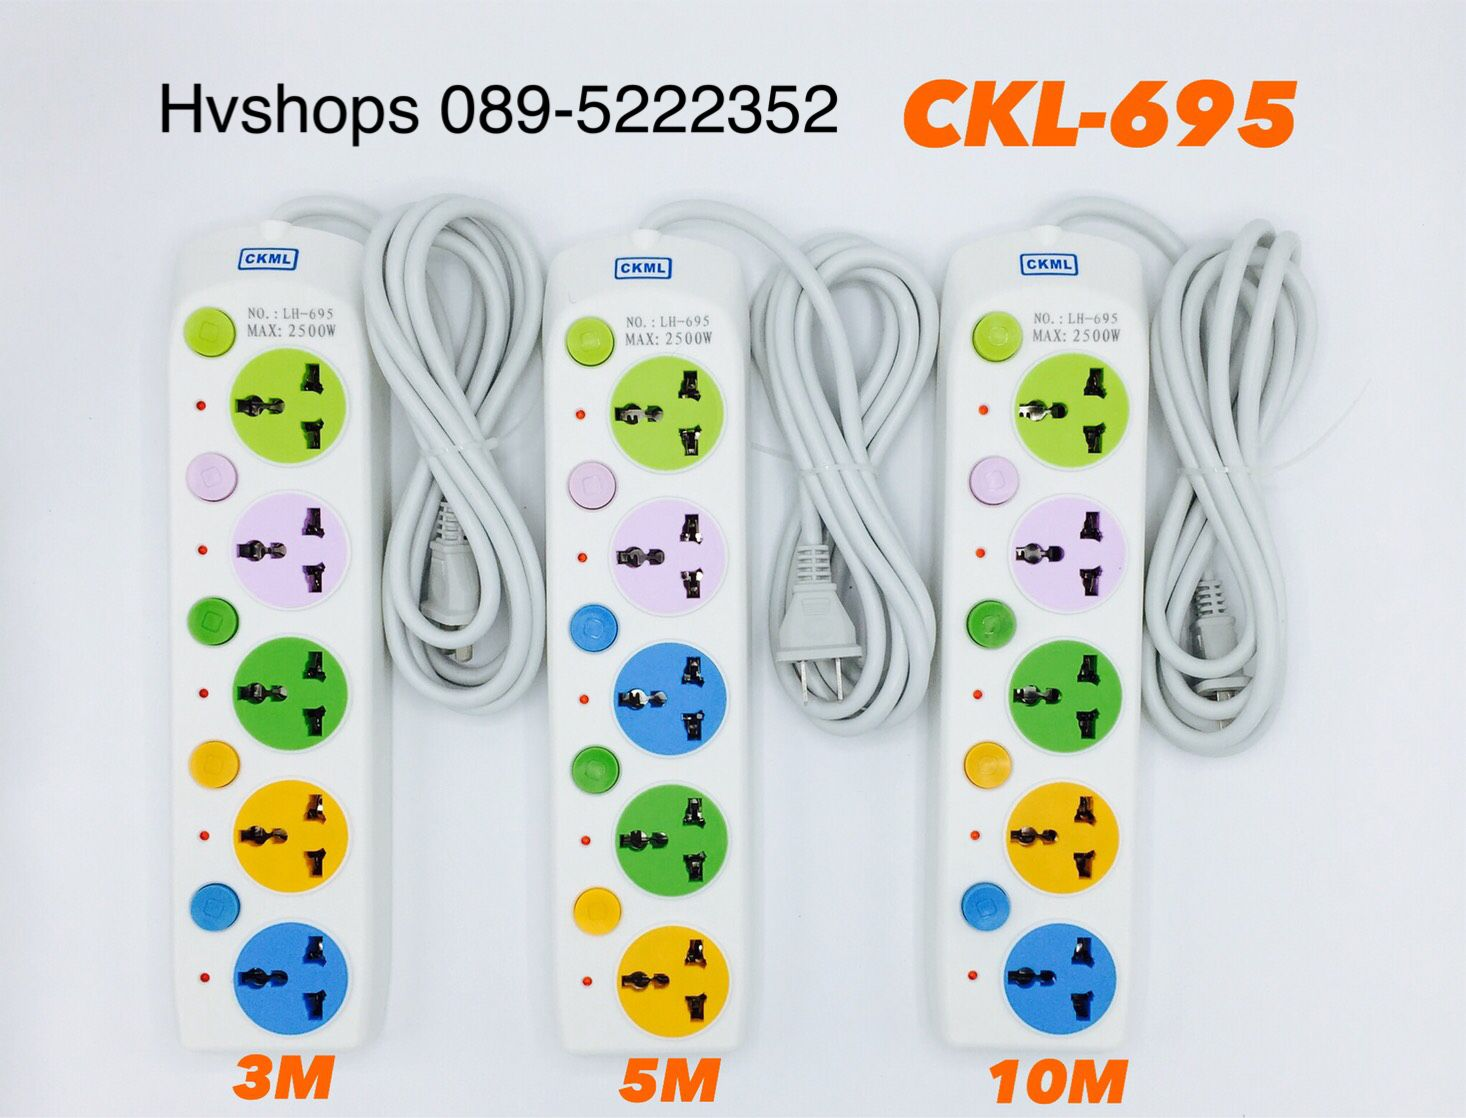Three_eye_plug: (921, 189, 1271, 1056), (144, 211, 422, 1058), (534, 206, 774, 1055)
